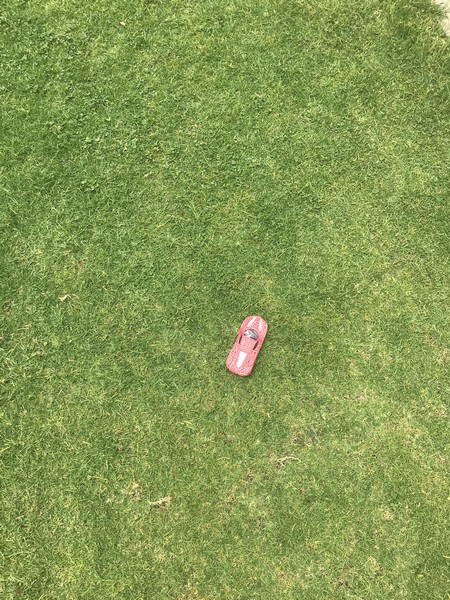RC: (224, 312, 270, 379)
